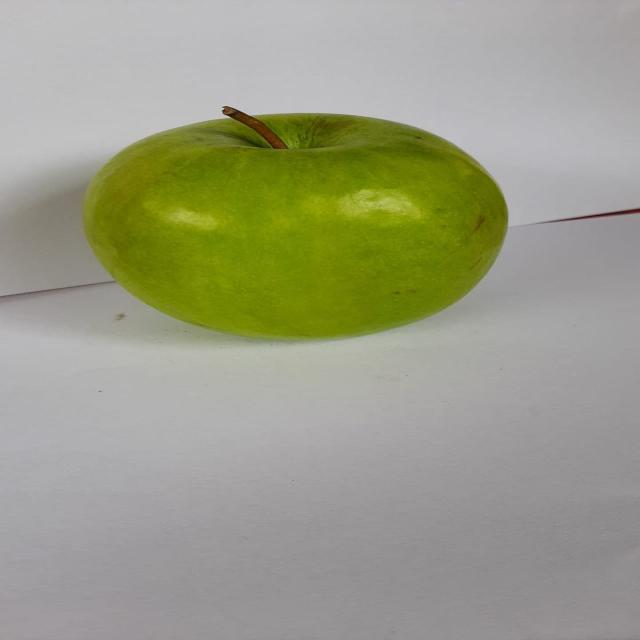50-_ripeness: (82, 94, 512, 346)
